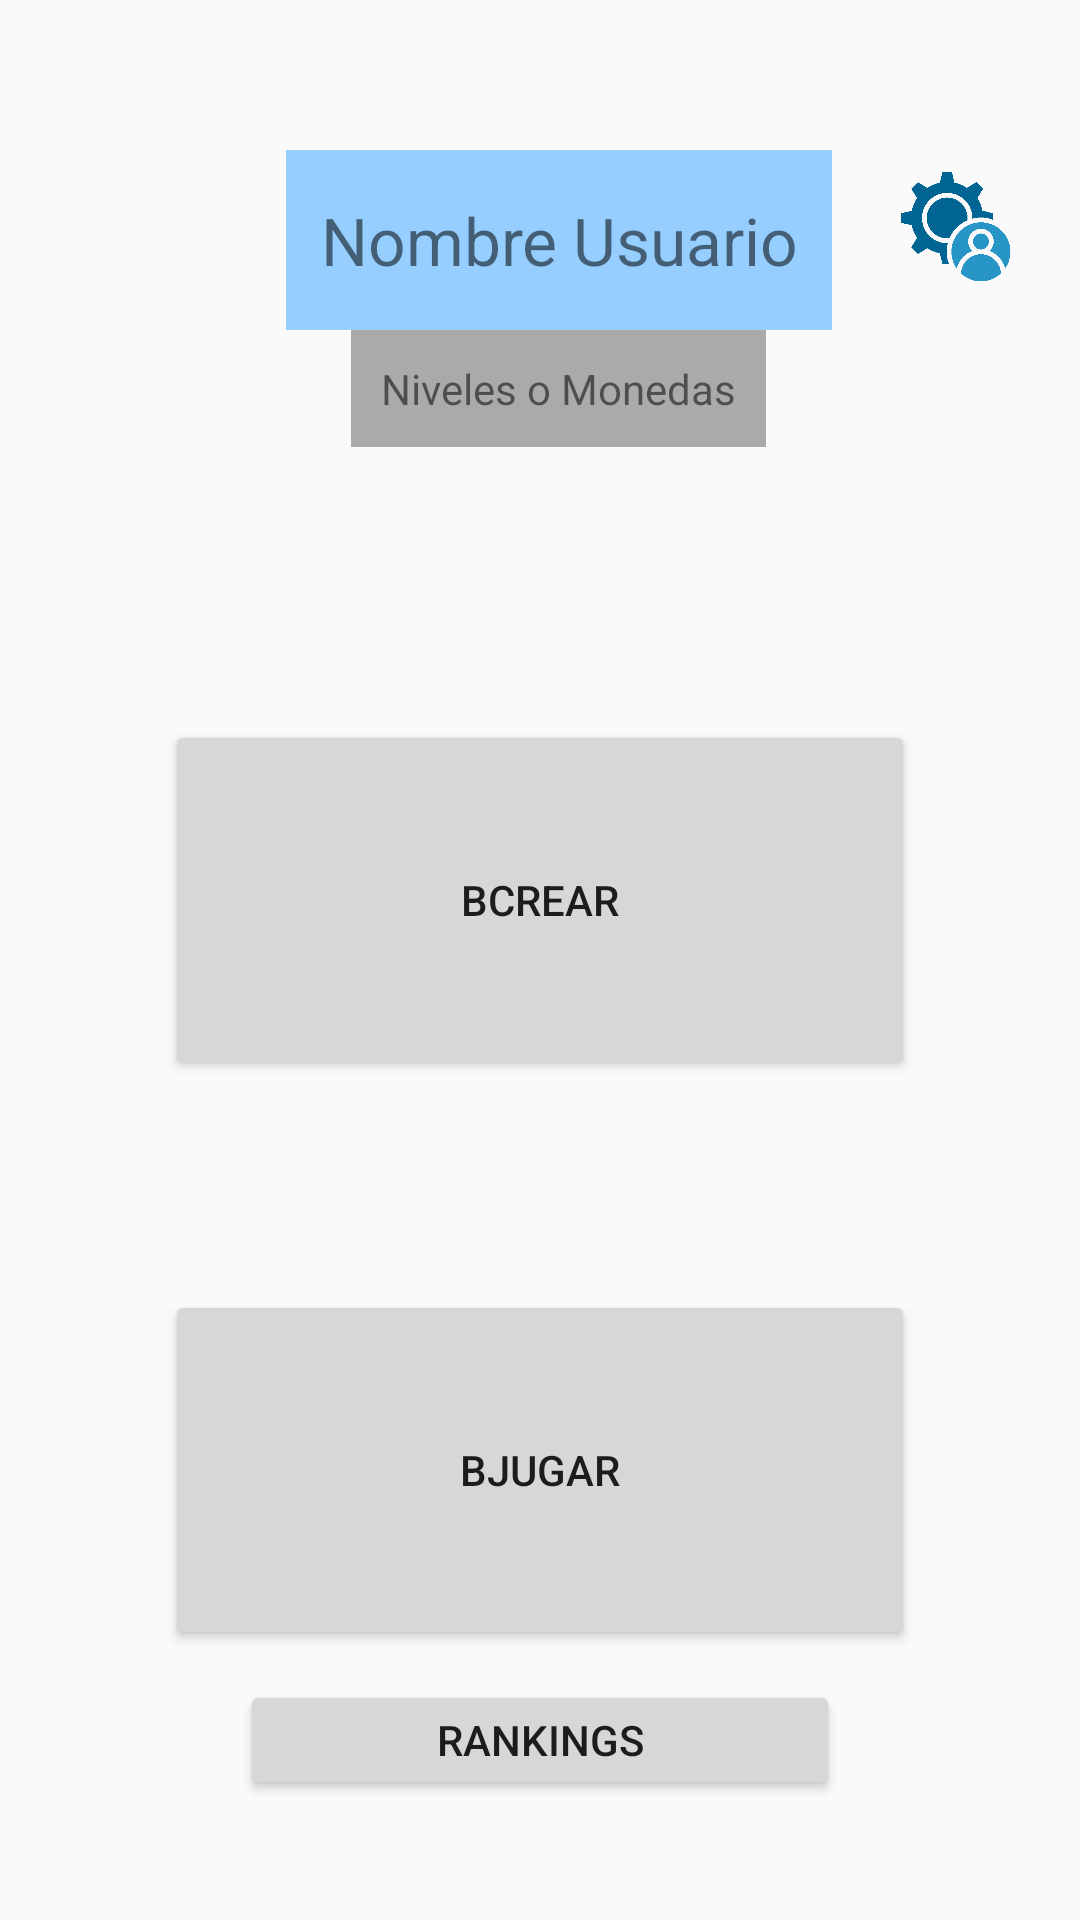

Where to tap for icons on this 1080x1920 app screen, as (x=x, y=y):
settings: (x=956, y=226)
